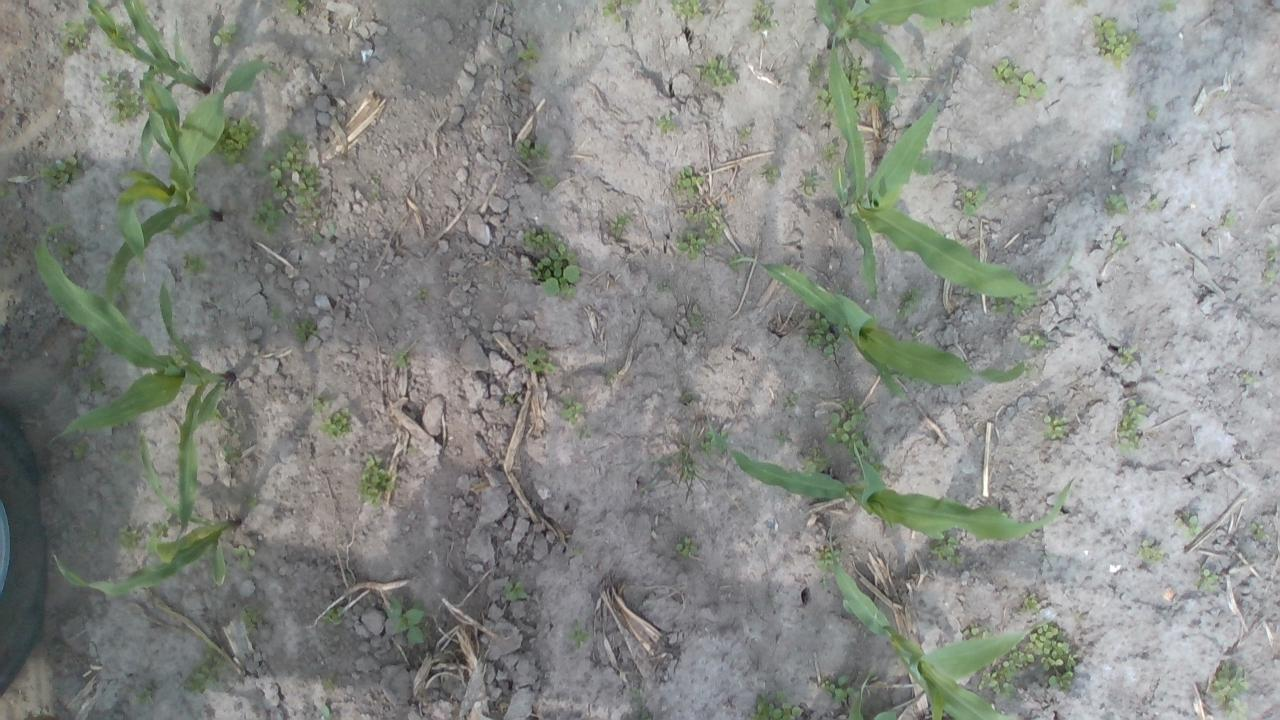Maize: (29, 218, 234, 550), (823, 30, 1072, 299), (698, 398, 1072, 541), (730, 252, 1028, 408), (822, 518, 1032, 720), (103, 60, 278, 302), (51, 432, 242, 597), (82, 0, 210, 175), (810, 0, 996, 85)
Weeds: (974, 644, 1035, 700), (1088, 12, 1146, 68), (530, 243, 581, 298), (209, 115, 260, 168), (98, 68, 142, 127), (382, 596, 430, 646), (802, 310, 848, 360), (355, 454, 397, 506), (183, 647, 226, 697), (824, 396, 866, 446), (1112, 395, 1146, 453), (645, 450, 698, 486), (1025, 624, 1068, 668), (252, 148, 287, 202), (745, 688, 803, 720), (847, 77, 898, 112), (1208, 660, 1250, 700), (36, 156, 82, 192), (1010, 66, 1049, 105), (250, 199, 288, 236), (287, 165, 322, 205), (845, 439, 885, 474), (926, 532, 966, 566), (820, 669, 856, 706), (276, 128, 306, 172), (694, 58, 735, 88), (698, 204, 726, 246), (560, 393, 586, 438), (58, 17, 89, 54), (319, 410, 356, 441), (745, 0, 777, 34), (958, 184, 991, 216), (1048, 653, 1076, 690), (600, 0, 642, 24), (841, 48, 867, 86), (800, 445, 831, 476), (674, 230, 706, 260), (524, 346, 556, 375), (673, 167, 705, 196), (515, 138, 552, 162), (896, 287, 924, 318), (1192, 564, 1221, 593), (568, 616, 594, 648), (912, 144, 936, 178), (630, 686, 654, 720), (74, 332, 99, 364), (701, 429, 728, 458), (523, 224, 554, 248), (1139, 538, 1170, 562), (517, 39, 540, 71), (1171, 511, 1198, 538), (291, 316, 317, 344), (211, 22, 238, 48), (1042, 413, 1068, 440), (184, 250, 212, 275), (232, 544, 258, 570), (1103, 192, 1129, 218), (812, 548, 840, 572), (799, 167, 821, 197), (610, 209, 634, 236), (116, 526, 139, 554), (238, 604, 264, 628), (670, 0, 704, 18), (1224, 697, 1250, 720), (85, 368, 107, 395), (675, 534, 699, 558), (993, 57, 1012, 86), (1011, 293, 1034, 316), (802, 58, 822, 84), (815, 87, 835, 113), (1020, 330, 1046, 350), (962, 625, 994, 641), (72, 438, 94, 461), (504, 581, 528, 602), (322, 606, 346, 626), (1156, 0, 1182, 18), (280, 0, 307, 17), (297, 207, 324, 224), (54, 240, 78, 259), (757, 162, 778, 183), (1118, 345, 1139, 366), (656, 112, 676, 134), (310, 396, 333, 415), (918, 15, 944, 31), (1246, 521, 1266, 541), (112, 278, 134, 296), (687, 304, 704, 327), (394, 347, 411, 370), (985, 296, 1009, 312), (310, 224, 334, 240), (1020, 593, 1038, 614), (778, 394, 798, 412), (822, 138, 837, 162), (899, 372, 923, 386), (952, 10, 973, 26), (102, 39, 122, 55), (152, 520, 170, 537), (117, 21, 133, 40), (1112, 139, 1126, 160), (869, 710, 898, 720), (1146, 196, 1162, 214), (1112, 230, 1128, 248), (170, 352, 188, 367), (135, 690, 154, 704), (1264, 242, 1277, 262), (321, 704, 337, 720), (268, 306, 283, 322), (220, 444, 237, 458), (1008, 0, 1026, 13), (248, 489, 259, 510), (540, 176, 556, 190), (1262, 269, 1274, 287), (1222, 210, 1234, 227), (415, 286, 429, 300), (119, 446, 133, 460), (656, 280, 671, 293), (1240, 371, 1255, 384), (774, 430, 787, 444), (682, 210, 698, 221), (604, 369, 618, 381), (906, 68, 921, 78), (742, 126, 752, 140), (1148, 108, 1158, 120), (682, 392, 692, 402), (504, 394, 514, 404), (909, 329, 922, 336), (0, 183, 5, 198)
